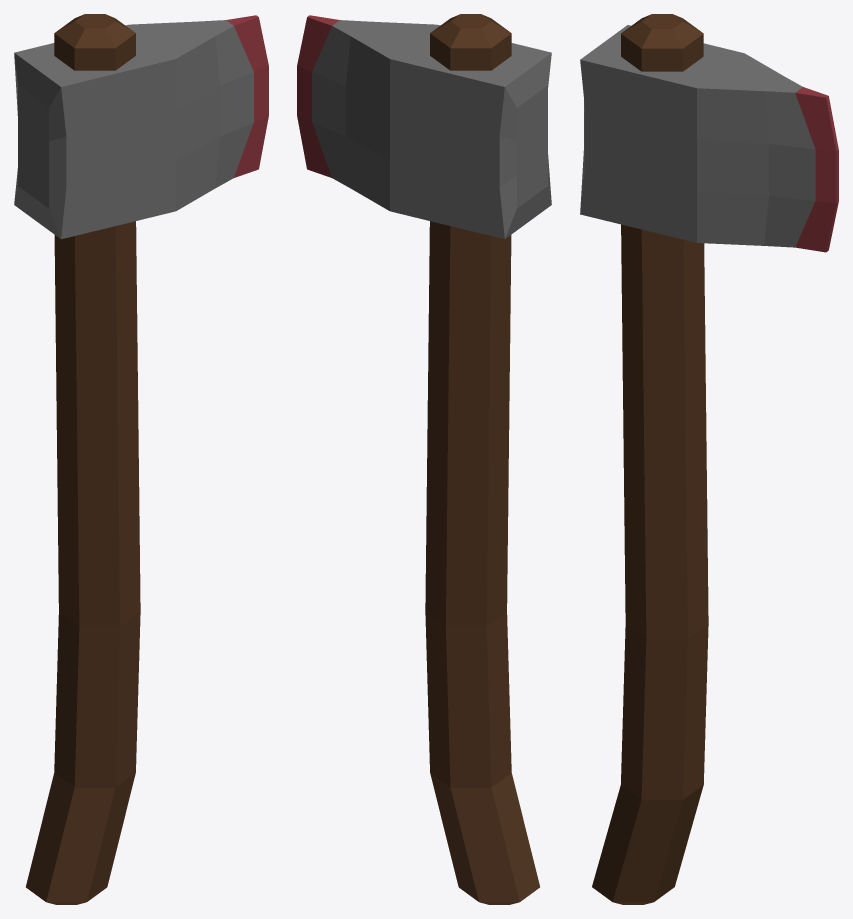
File: axe.fbx
3 views of the same model, side by side, from view 1: azimuth 30°, elevation 25°; view 2: azimuth 150°, elevation 25°; view 3: azimuth 330°, elevation 25° (orthographic).
Visible parts, largest first — view 1: Cube.001; view 2: Cube.001; view 3: Cube.001.
Boxes of the visible parts, x1=… form: Cube.001: x1=14, y1=14, x2=268, y2=904; Cube.001: x1=297, y1=14, x2=551, y2=904; Cube.001: x1=580, y1=14, x2=838, y2=904.
Bounding box in the file's own units: 6.91 × 24.52 × 2.4.
